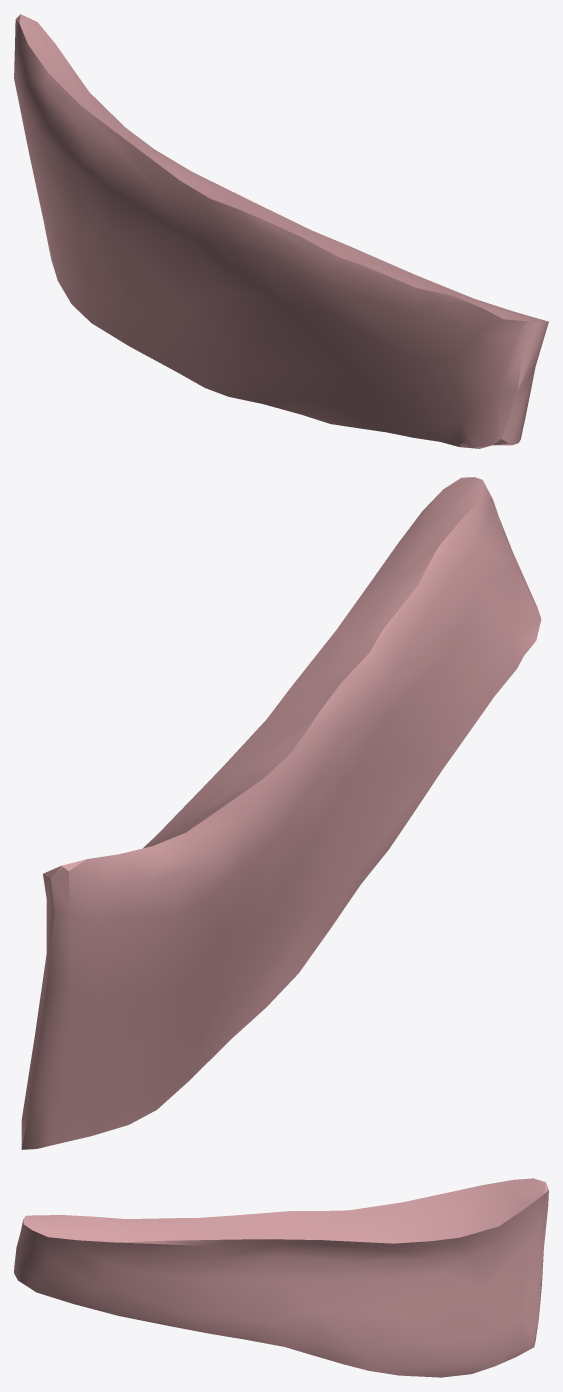
The model's file is fma275369_mm3365m.glb.
The picture shows the model from 3 angles, top to bottom: view 1: azimuth 30°, elevation 25°; view 2: azimuth 150°, elevation 25°; view 3: azimuth 270°, elevation 25°; orthographic projection. The views are drawn at different scales.
Visible parts, largest first — view 1: FMA275369_MM3365M; view 2: FMA275369_MM3365M; view 3: FMA275369_MM3365M.
Part boxes in pixels (x1,y1,x2,y2): FMA275369_MM3365M: (14, 14, 548, 448); FMA275369_MM3365M: (21, 477, 541, 1149); FMA275369_MM3365M: (14, 1178, 548, 1377).
Size of the model in its own units: 0.00564 by 0.0106 by 0.029.
